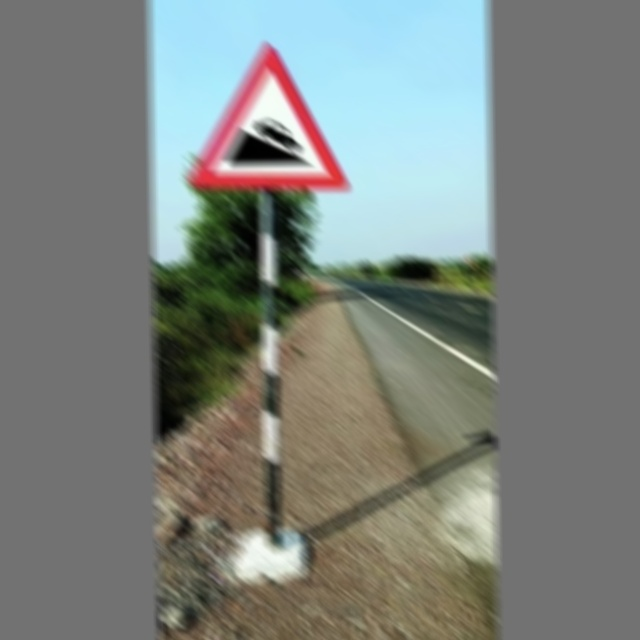Steep_Descent: (192, 45, 346, 198)
